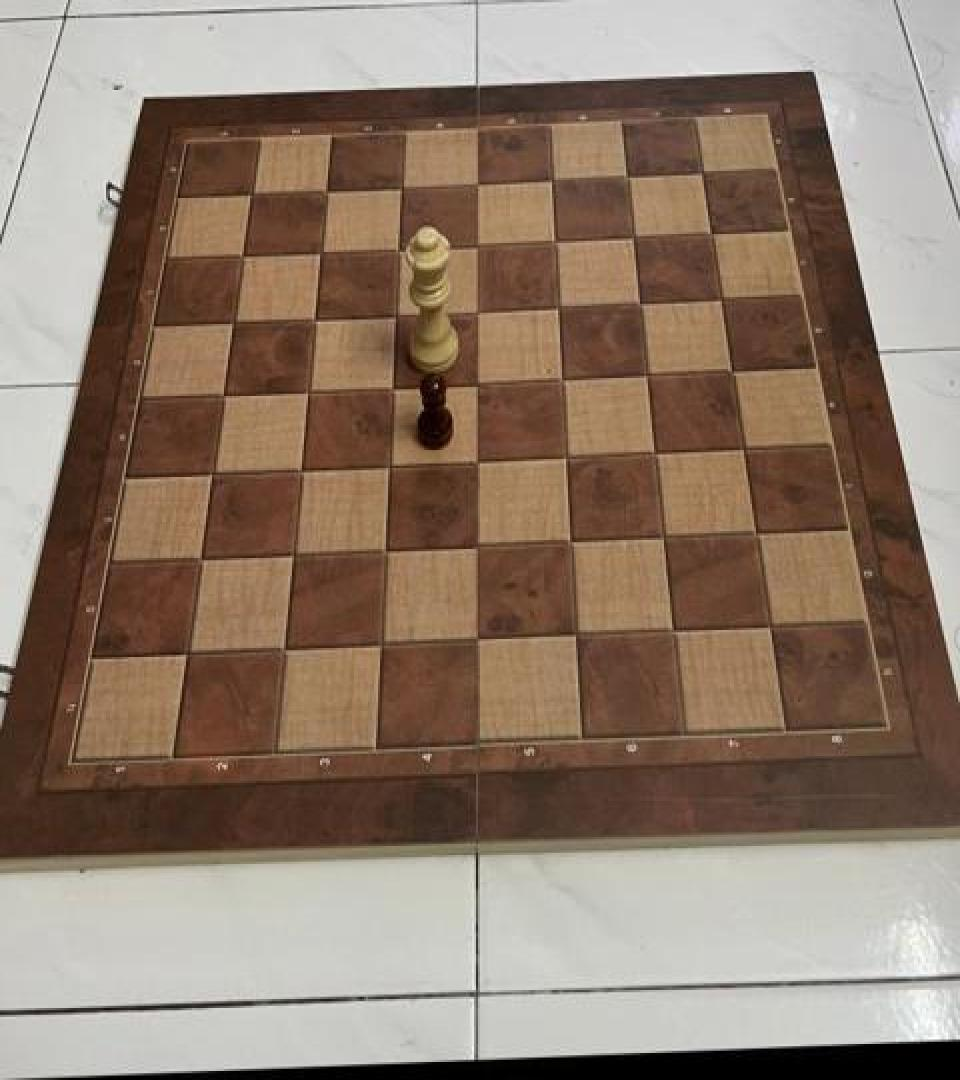xcorner: (610, 156, 644, 195), (234, 174, 268, 213), (460, 291, 494, 330), (291, 371, 325, 410), (195, 454, 229, 493), (364, 625, 398, 664), (685, 153, 719, 191), (535, 160, 569, 198), (459, 164, 493, 202), (384, 168, 418, 206), (309, 171, 343, 209), (694, 215, 728, 253), (616, 218, 650, 256), (538, 222, 572, 260), (460, 225, 494, 263), (382, 228, 416, 266), (303, 233, 337, 271), (225, 236, 259, 274), (703, 280, 737, 318), (622, 285, 656, 323), (541, 288, 575, 326), (379, 296, 413, 334), (297, 300, 331, 338), (216, 303, 250, 341), (714, 352, 748, 390), (629, 356, 663, 394), (545, 360, 579, 398), (460, 364, 494, 402), (375, 368, 409, 406), (206, 376, 240, 414), (725, 430, 759, 468), (637, 434, 671, 472), (548, 438, 582, 476), (460, 442, 494, 480), (372, 447, 406, 485), (284, 450, 318, 488), (737, 516, 771, 554), (645, 519, 679, 557), (553, 523, 587, 561), (460, 528, 494, 566), (368, 532, 402, 570), (276, 537, 310, 575), (184, 540, 218, 578), (751, 608, 785, 646), (654, 612, 688, 650), (557, 616, 591, 654), (461, 621, 495, 659), (267, 630, 301, 668), (171, 634, 205, 672)
